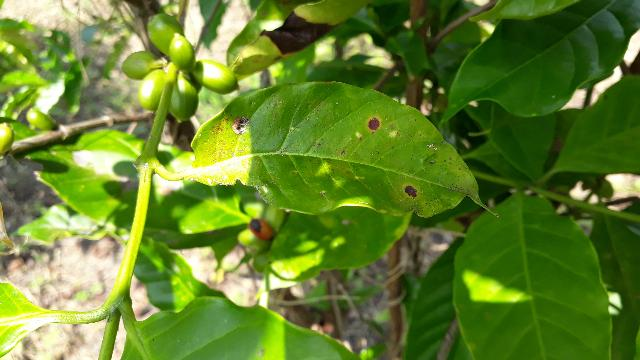rust_level_1: (185, 81, 497, 219)
